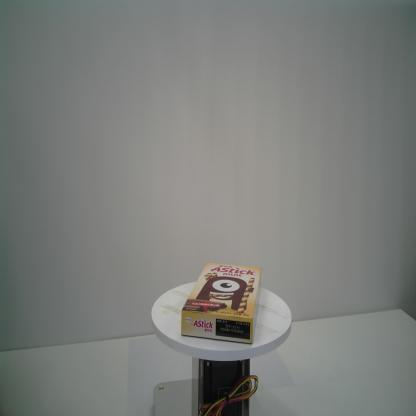Dessert: (180, 260, 262, 345)
